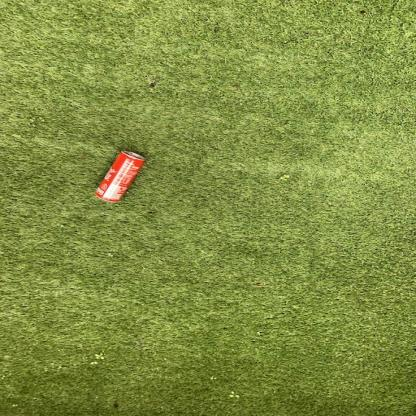trash: (94, 145, 148, 202)
